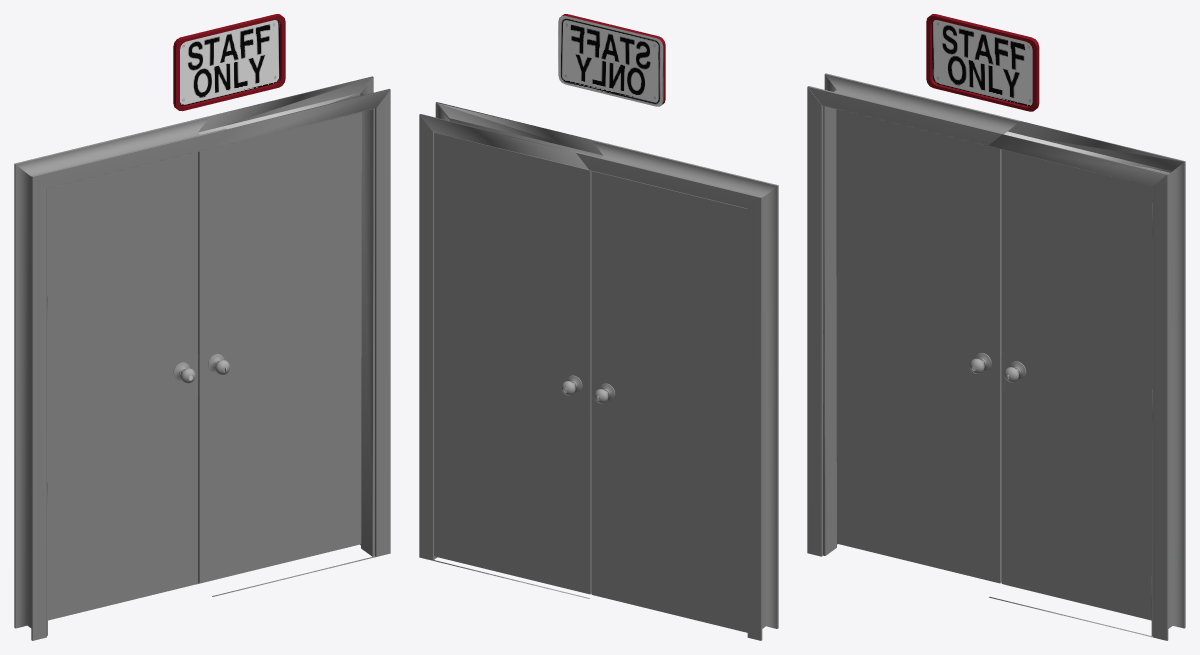
The model's file is pintu ke freezer.fbx.
The picture shows the model from 3 angles, left to right: view 1: azimuth 30°, elevation 25°; view 2: azimuth 150°, elevation 25°; view 3: azimuth 330°, elevation 25°; orthographic projection. The views are drawn at different scales.
Parts seen in each view (by area): view 1: Cylinder.008, Cylinder.005, Cylinder.007, Staff only; view 2: Cylinder.008, Cylinder.005, Cylinder.007, Staff only; view 3: Cylinder.005, Cylinder.008, Cylinder.007, Staff only.
Part boxes in pixels (bbox=[...]): Cylinder.008: bbox=[198, 112, 361, 583]; Cylinder.005: bbox=[47, 152, 198, 620]; Cylinder.007: bbox=[14, 76, 390, 640]; Staff only: bbox=[173, 14, 285, 111]; Cylinder.008: bbox=[434, 132, 591, 594]; Cylinder.005: bbox=[591, 171, 747, 632]; Cylinder.007: bbox=[419, 102, 778, 640]; Staff only: bbox=[558, 14, 665, 106]; Cylinder.005: bbox=[836, 109, 1001, 583]; Cylinder.008: bbox=[1001, 149, 1152, 620]; Cylinder.007: bbox=[807, 73, 1185, 640]; Staff only: bbox=[926, 14, 1039, 111].
Size of the model in its own units: 185 by 285 by 35.97.
